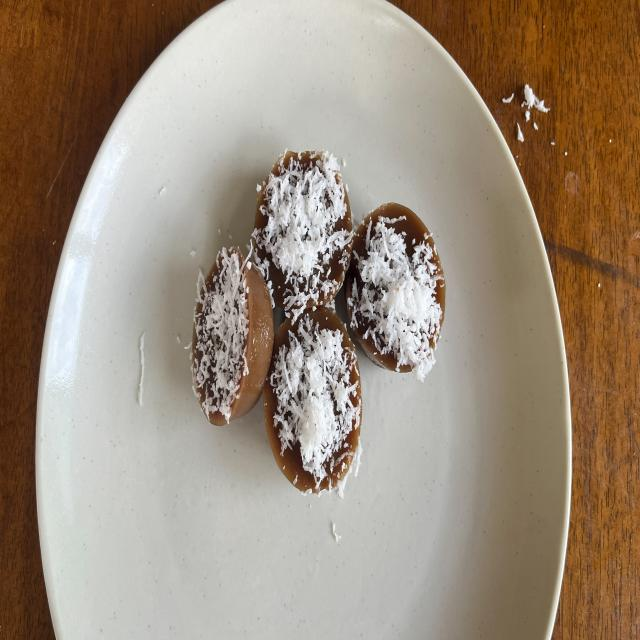Kuih lompang: (262, 307, 362, 493), (346, 202, 445, 378), (252, 151, 352, 318), (191, 247, 274, 424)
